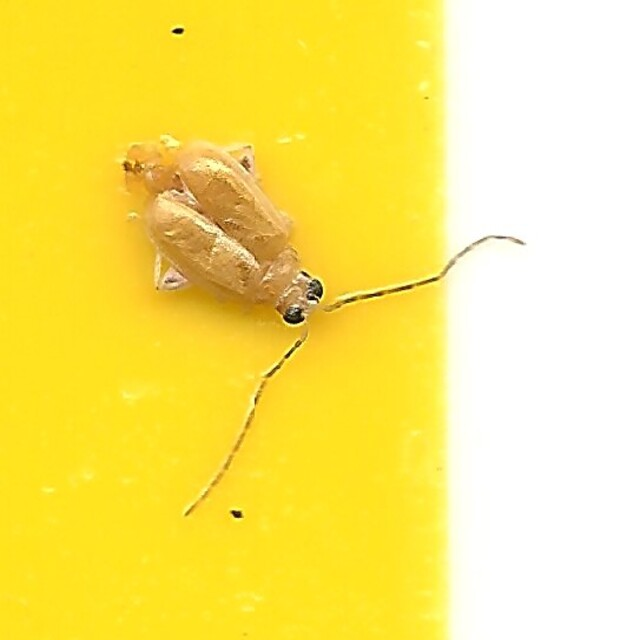Coleoptera: (118, 127, 522, 513)
